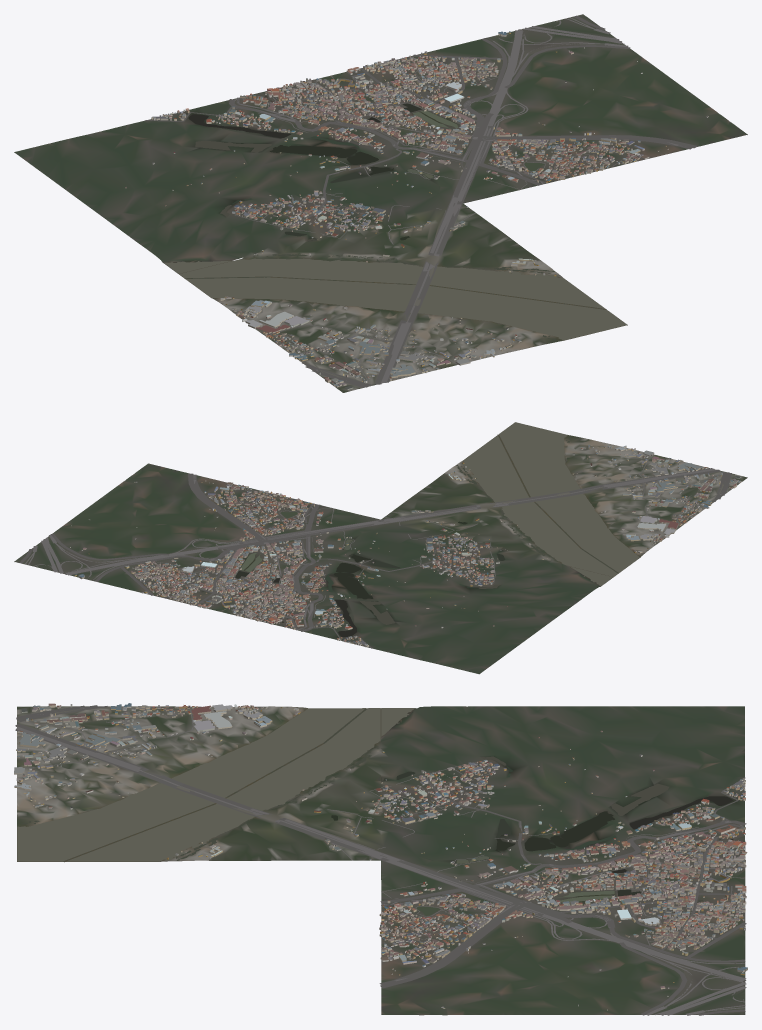
The picture shows the model from 3 angles, top to bottom: view 1: azimuth 30°, elevation 25°; view 2: azimuth 150°, elevation 25°; view 3: azimuth 270°, elevation 25°; orthographic projection. The views are drawn at different scales.
Visible parts, largest first — view 1: ground, buildings, water, roads; view 2: ground, buildings, water, roads; view 3: ground, buildings, water, roads.
Boxes of the visible parts, bbox=[...] form: ground: bbox=[14, 14, 747, 392]; buildings: bbox=[125, 20, 708, 389]; water: bbox=[164, 79, 627, 341]; roads: bbox=[145, 15, 697, 387]; ground: bbox=[14, 435, 747, 674]; buildings: bbox=[36, 445, 741, 647]; water: bbox=[201, 422, 639, 637]; roads: bbox=[19, 454, 731, 648]; ground: bbox=[17, 706, 745, 1015]; buildings: bbox=[14, 703, 747, 1010]; water: bbox=[17, 708, 733, 916]; roads: bbox=[15, 705, 746, 1015].
Size of the model in its own units: 2826 by 22.95 by 2827.
